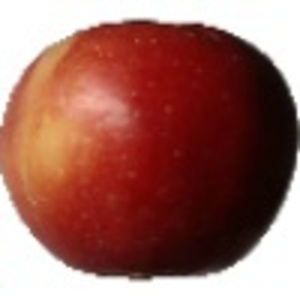maçã braeburn: (1, 16, 300, 278)
